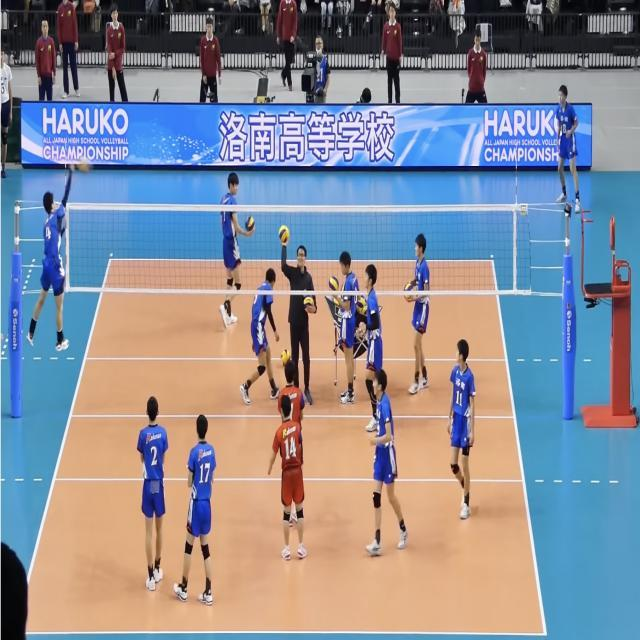spike: (23, 160, 80, 360)
